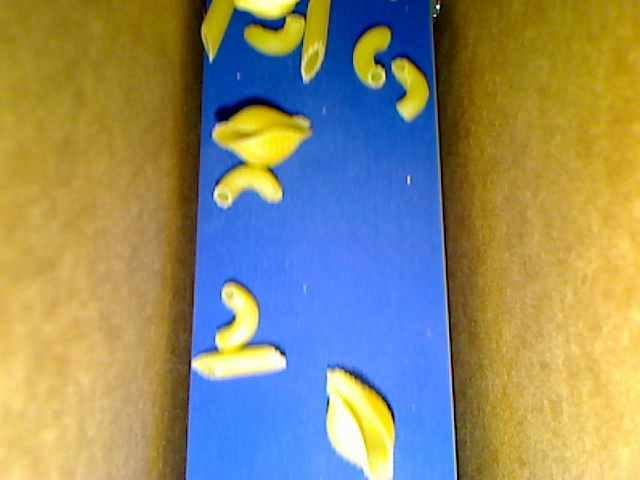elbow: (213, 163, 282, 209), (215, 279, 257, 353), (244, 14, 305, 57), (352, 26, 391, 89), (391, 58, 428, 121)
penne: (193, 343, 286, 380), (301, 1, 330, 83), (201, 1, 234, 63)
shell: (325, 365, 395, 479), (210, 106, 310, 168)
